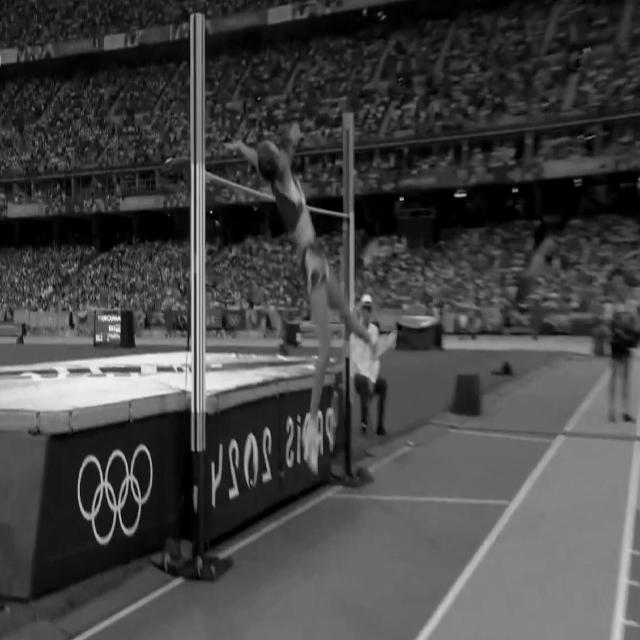jump: (223, 122, 394, 476)
